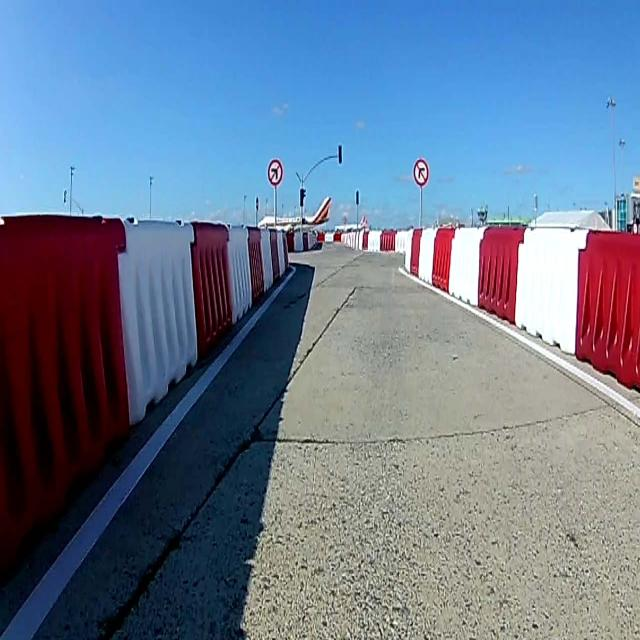sagadonulmez: (413, 158, 429, 186)
soladonulmez: (268, 160, 282, 186)
